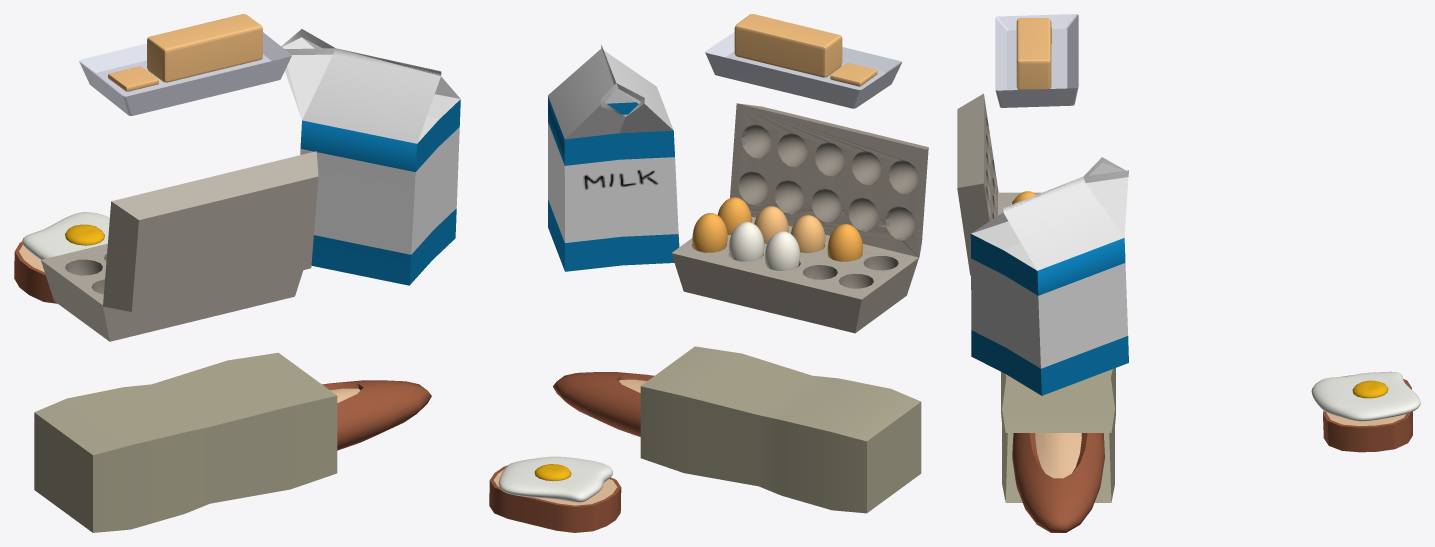
Rendered from food 1.fbx.
The picture shows the model from 3 angles, left to right: view 1: azimuth 30°, elevation 25°; view 2: azimuth 150°, elevation 25°; view 3: azimuth 270°, elevation 25°; orthographic projection. The views are drawn at different scales.
Parts seen in each view (by area): view 1: loaf, eggs1, milkCarton, butter, cookedegg1; view 2: eggs1, loaf, milkCarton, butter, cookedegg1; view 3: milkCarton, loaf, butter, cookedegg1, eggs1.
Part boxes in pixels (x1,y1,x2,y2): loaf: [34, 352, 431, 532]; eggs1: [41, 151, 318, 341]; milkCarton: [281, 29, 460, 285]; butter: [79, 14, 291, 115]; cookedegg1: [14, 212, 109, 303]; eggs1: [671, 103, 928, 333]; loaf: [553, 346, 921, 513]; milkCarton: [548, 45, 679, 271]; butter: [705, 14, 902, 108]; cookedegg1: [489, 456, 621, 532]; milkCarton: [970, 157, 1129, 395]; loaf: [1001, 368, 1115, 532]; butter: [995, 14, 1078, 107]; cookedegg1: [1311, 371, 1420, 452]; eggs1: [957, 93, 1041, 275].
Bounding box in the file's own units: 24.12 × 27.67 × 27.94.
2 materials, 1 textured.
